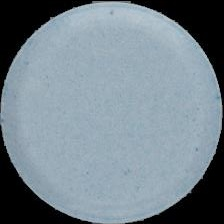0185-0072: (0, 0, 224, 224)
